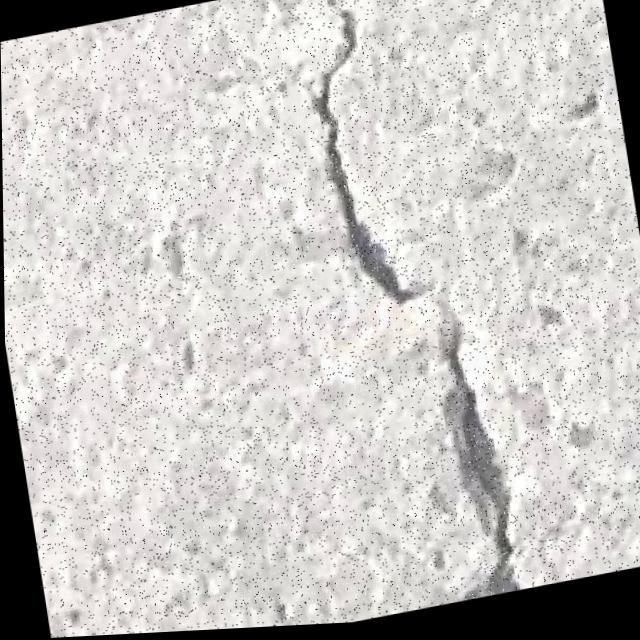Crack: (284, 0, 575, 623)
